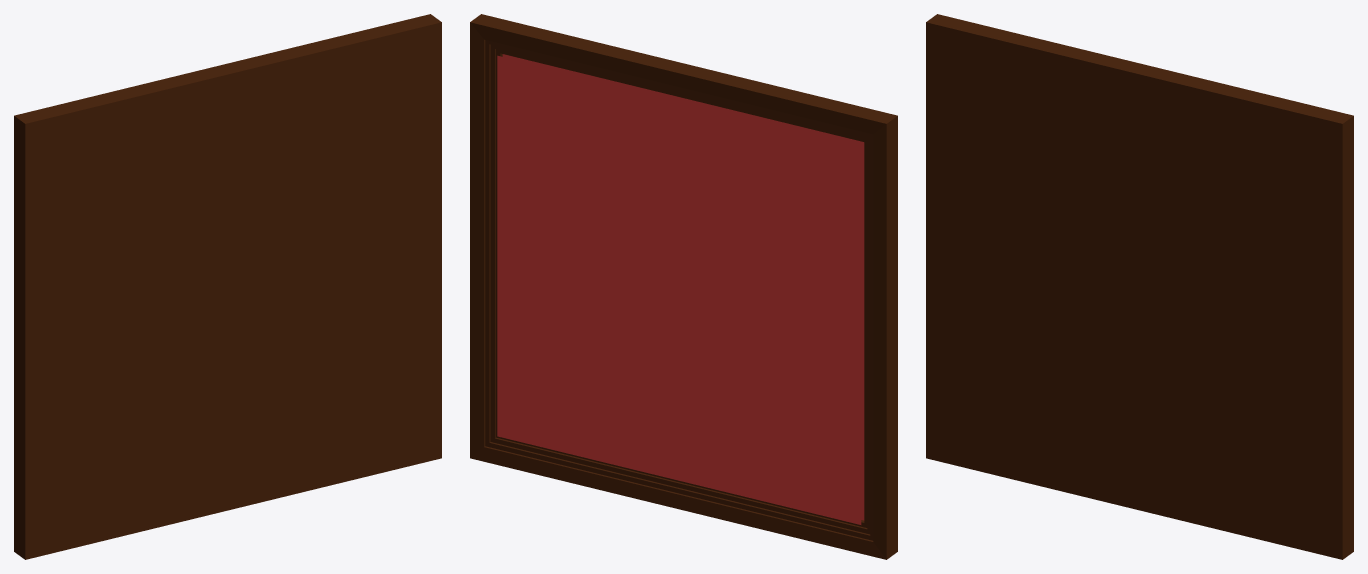
File: cuadrado.fbx
3 renders of one model, left to right at view 1: azimuth 30°, elevation 25°; view 2: azimuth 150°, elevation 25°; view 3: azimuth 330°, elevation 25°, orthographic.
Visible parts, largest first — view 1: Cuadrado_simple; view 2: Cuadrado_simple.001, Cuadrado_simple; view 3: Cuadrado_simple.
Part boxes in pixels (x1,y1,x2,y2): Cuadrado_simple: (14,14,441,559); Cuadrado_simple.001: (497,55,861,524); Cuadrado_simple: (470,14,897,559); Cuadrado_simple: (926,14,1353,559).
Bounding box in the file's own units: 424 × 424 × 19.95.
